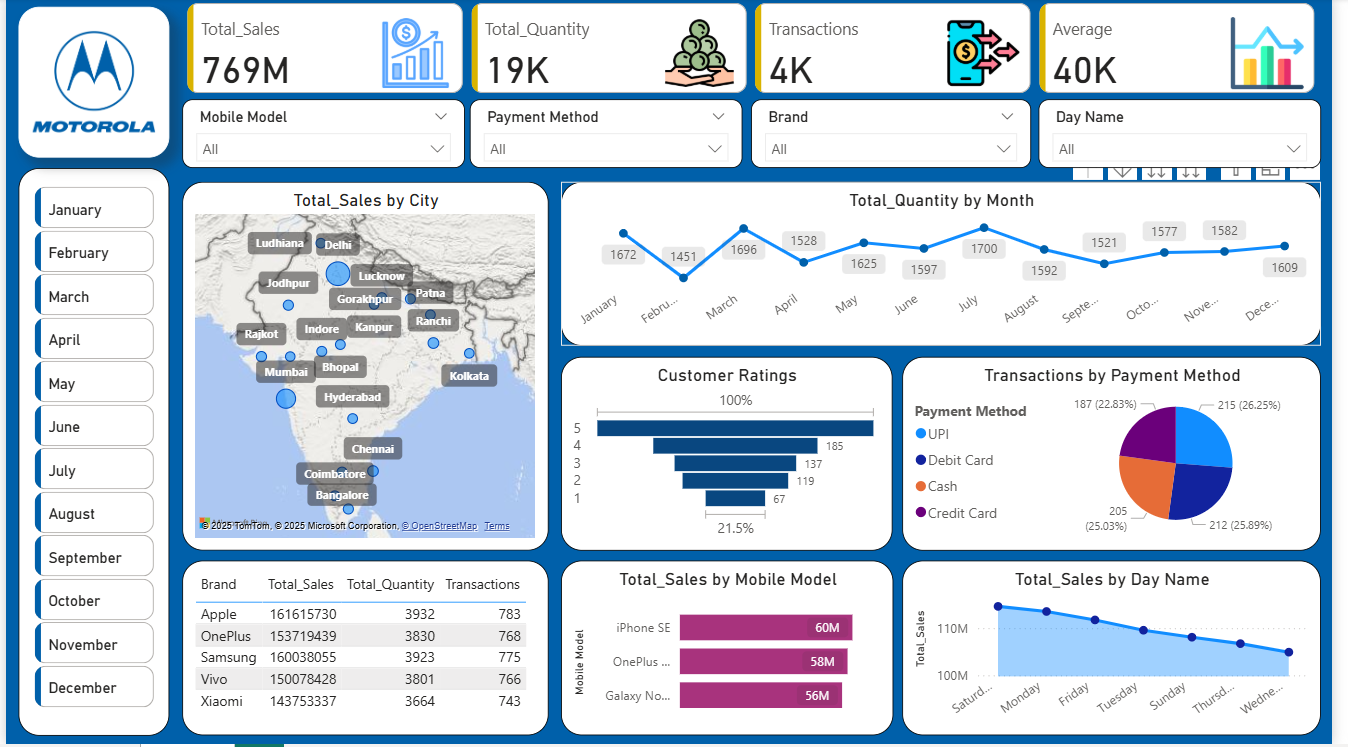

This screenshot's page, from the dashboard's own definition file:
{"tool":"powerbi","page":{"name":"Page 1","canvas":[1280,720],"ordinal":0},"visuals":[{"type":"shape","box":[12.1,164.1,146,547.7],"z":0},{"type":"image","box":[12.1,8.4,146,146],"z":1000},{"type":"advancedSlicerVisual","fields":{"Values":["Sales_Data.Date.Variation.Date Hierarchy.Month"]},"box":[22.9,177.3,125.5,522.4],"z":2000},{"type":"cardVisual","fields":{"Data":["Sales_Data.Total_Sales","Sales_Data.Total_Quantity","Sales_Data.Transactions","Sales_Data.Average"]},"box":[170.1,0,1099.1,97.7],"z":3000},{"type":"map","fields":{"Category":["Sales_Data.City"],"Size":["Sales_Data.Total_Sales"]},"box":[170.1,177.3,353.5,355.9],"z":4000},{"type":"lineChart","fields":{"Y":["Sales_Data.Total_Quantity"],"Category":["Sales_Data.Date.Variation.Date Hierarchy.Month","Sales_Data.Date.Variation.Date Hierarchy.Day"]},"box":[535.7,177.3,733.5,158],"z":5000},{"type":"clusteredBarChart","fields":{"Category":["Sales_Data.Mobile Model"],"Y":["Sales_Data.Total_Sales"]},"box":[535.7,542.9,320.9,168.9],"z":6000},{"type":"pieChart","fields":{"Category":["Sales_Data.Payment Method"],"Y":["Sales_Data.Transactions"]},"box":[865,346.2,404.2,187],"z":7000},{"type":"funnel","title":" Customer Ratings","fields":{"Category":["Sales_Data.Customer Ratings"],"Y":["CountNonNull(Sales_Data.Customer Ratings)"]},"box":[535.7,346.2,319.7,187],"z":8000},{"type":"areaChart","fields":{"Category":["Sales_Data.Day Name"],"Y":["Sales_Data.Total_Sales"]},"box":[865,542.9,404.2,168.9],"z":9000},{"type":"tableEx","fields":{"Values":["Sales_Data.Brand","Sales_Data.Total_Sales","Sales_Data.Total_Quantity","Sales_Data.Transactions"]},"box":[170.1,542.9,353.5,168.9],"z":10000},{"type":"slicer","fields":{"Values":["Sales_Data.Mobile Model"]},"box":[170.1,97.7,272.7,66.4],"z":11000},{"type":"slicer","fields":{"Values":["Sales_Data.Payment Method"]},"box":[447.6,97.7,263,66.4],"z":12000},{"type":"slicer","fields":{"Values":["Sales_Data.Brand"]},"box":[719,97.7,270.2,66.4],"z":13000},{"type":"slicer","fields":{"Values":["Sales_Data.Day Name"]},"box":[996.5,97.7,272.7,66.4],"z":14000}]}

Visuals, with their boxes in screenshot pixels (x1, y1, x2, y2), scaled from the page's 1280x720 canvas onto the 1348x747 screenshot:
shape: x1=13 y1=170 x2=166 y2=738
image: x1=13 y1=9 x2=166 y2=160
advancedSlicerVisual - Sales_Data.Date.Variation.Date Hierarchy.Month: x1=24 y1=184 x2=156 y2=726
cardVisual - Sales_Data.Total_Sales x Sales_Data.Total_Quantity: x1=179 y1=0 x2=1337 y2=101
map - Sales_Data.City x Sales_Data.Total_Sales: x1=179 y1=184 x2=551 y2=553
lineChart - Sales_Data.Total_Quantity x Sales_Data.Date.Variation.Date Hierarchy.Month: x1=564 y1=184 x2=1337 y2=348
clusteredBarChart - Sales_Data.Mobile Model x Sales_Data.Total_Sales: x1=564 y1=563 x2=902 y2=738
pieChart - Sales_Data.Payment Method x Sales_Data.Transactions: x1=911 y1=359 x2=1337 y2=553
" Customer Ratings" funnel: x1=564 y1=359 x2=901 y2=553
areaChart - Sales_Data.Day Name x Sales_Data.Total_Sales: x1=911 y1=563 x2=1337 y2=738
tableEx - Sales_Data.Brand x Sales_Data.Total_Sales: x1=179 y1=563 x2=551 y2=738
slicer - Sales_Data.Mobile Model: x1=179 y1=101 x2=466 y2=170
slicer - Sales_Data.Payment Method: x1=471 y1=101 x2=748 y2=170
slicer - Sales_Data.Brand: x1=757 y1=101 x2=1042 y2=170
slicer - Sales_Data.Day Name: x1=1049 y1=101 x2=1337 y2=170
